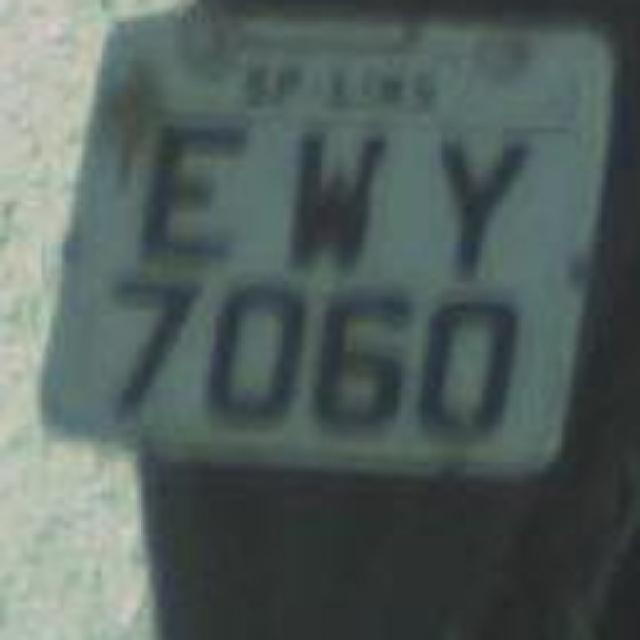0: (188, 255, 312, 440), (408, 292, 524, 432)
6: (300, 272, 415, 440)
7: (68, 252, 200, 432)
E: (136, 96, 249, 269)
W: (276, 112, 389, 280)
Y: (416, 115, 536, 280)
